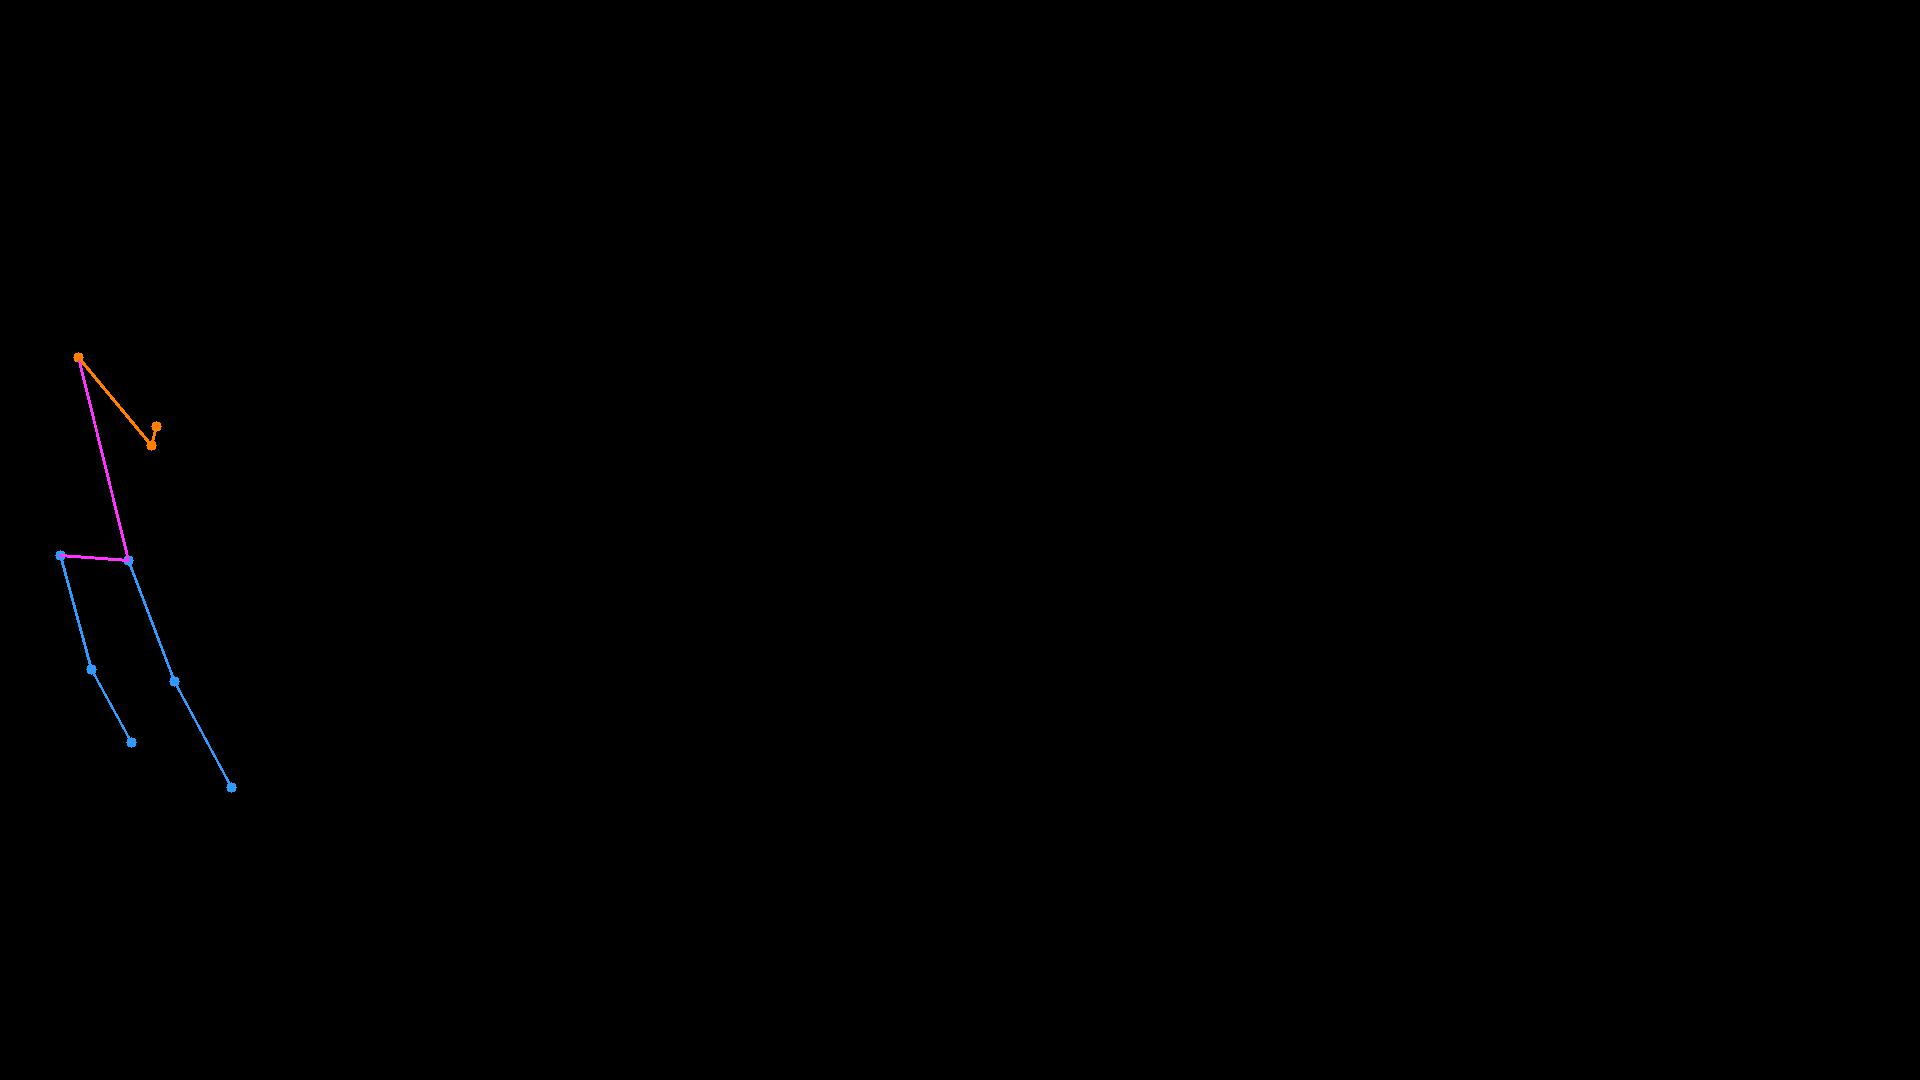normal: (1, 330, 256, 820)
